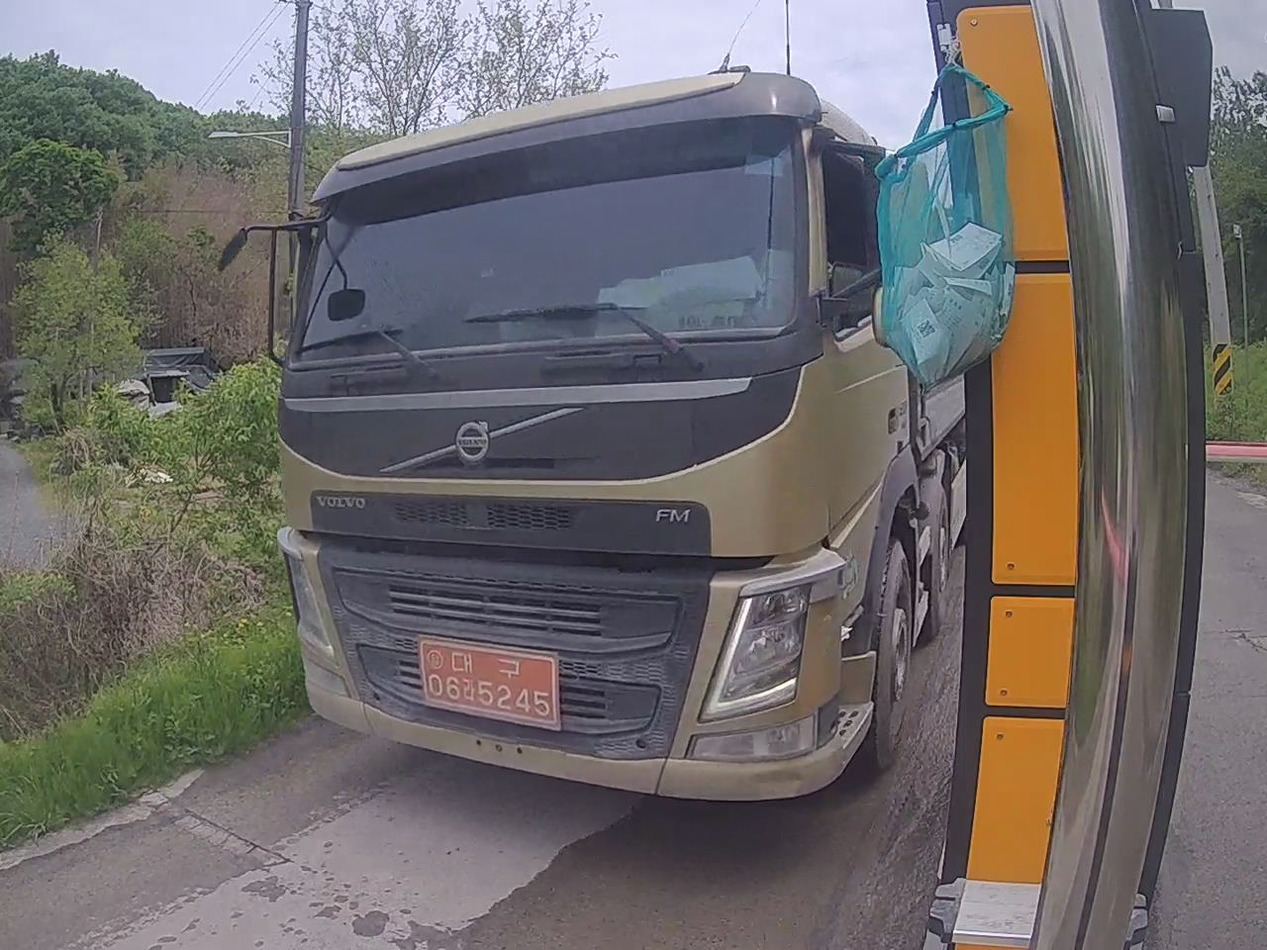license_plate: (421, 640, 559, 729)
truck: (223, 69, 965, 798)
